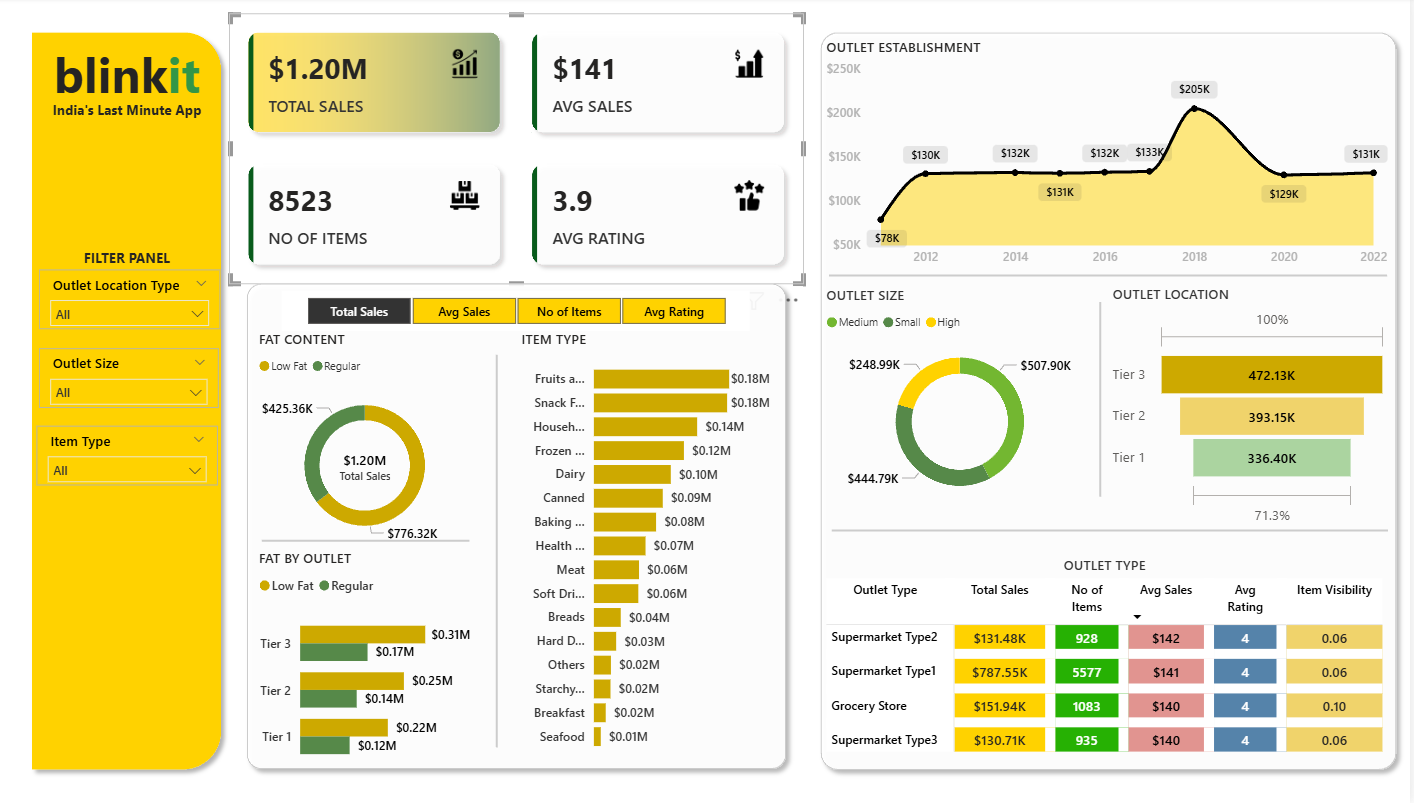

The page's visual inventory and layout, read from the dashboard file:
{"tool":"powerbi","page":{"name":"Page 1","canvas":[1400,800],"ordinal":0},"visuals":[{"type":"shape","box":[23.9,25.7,205.8,749.6],"z":0},{"type":"textbox","box":[36.7,38.3,180,75],"z":1000},{"type":"textbox","box":[36.7,98.3,180,30],"z":2000},{"type":"cardVisual","fields":{"Data":["BlinkIT Grocery Data.Total Sales","BlinkIT Grocery Data.Avg Sales","BlinkIT Grocery Data.No of Items","BlinkIT Grocery Data.Avg Rating"]},"box":[228.1,16.1,570.3,269.9],"z":3000},{"type":"shape","box":[236.7,275,553.3,500],"z":4000},{"type":"donutChart","title":"FAT CONTENT","fields":{"Y":["BlinkIT Grocery Data.Total Sales"],"Category":["BlinkIT Grocery Data.Item Fat Content"]},"box":[253.3,330,220,225],"z":5000},{"type":"slicer","fields":{"Values":["Metrics.Metrics"]},"box":[280,291.7,465,40],"z":6000},{"type":"cardVisual","fields":{"Data":["BlinkIT Grocery Data.Total Sales"]},"box":[300,425,126.7,80],"z":7000},{"type":"clusteredBarChart","title":"FAT BY OUTLET","fields":{"Y":["BlinkIT Grocery Data.Total Sales"],"Category":["BlinkIT Grocery Data.Outlet Location Type"],"Series":["BlinkIT Grocery Data.Item Fat Content"]},"box":[253.3,546.7,220,230],"z":8000},{"type":"shape","box":[260,530,206.7,20],"z":9000},{"type":"shape","box":[473.3,355,40,390],"z":10000},{"type":"barChart","title":"ITEM TYPE","fields":{"Y":["BlinkIT Grocery Data.Total Sales"],"Category":["BlinkIT Grocery Data.Item Type"]},"box":[513.3,330,256.7,428.3],"z":11000},{"type":"shape","box":[806.4,25.7,589.6,750.2],"z":12000},{"type":"lineChart","title":"OUTLET ESTABLISHMENT","fields":{"Y":["BlinkIT Grocery Data.Total Sales"],"Category":["BlinkIT Grocery Data.Outlet Establishment Year"]},"box":[816.1,40.2,567.1,236.1],"z":13000},{"type":"shape","box":[824.1,271.5,554.2,9.6],"z":14000},{"type":"donutChart","title":"OUTLET SIZE","fields":{"Y":["BlinkIT Grocery Data.Total Sales"],"Category":["BlinkIT Grocery Data.Outlet Size"]},"box":[816.7,286.7,275,225],"z":15000},{"type":"shape","box":[1073.3,303.3,40,193.3],"z":16000},{"type":"funnel","title":"OUTLET LOCATION","fields":{"Y":["Sum(BlinkIT Grocery Data.Sales)"],"Category":["BlinkIT Grocery Data.Outlet Location Type"]},"box":[1100.4,285.9,282.7,244.2],"z":17000},{"type":"shape","box":[825.7,525.3,552.6,9.6],"z":18000},{"type":"pivotTable","title":"OUTLET TYPE","fields":{"Rows":["BlinkIT Grocery Data.Outlet Type"],"Values":["BlinkIT Grocery Data.Total Sales","BlinkIT Grocery Data.No of Items","BlinkIT Grocery Data.Avg Sales","BlinkIT Grocery Data.Avg Rating","Avg(BlinkIT Grocery Data.Item Visibility)"]},"box":[816.1,554.2,562.2,204],"z":19000},{"type":"slicer","fields":{"Values":["BlinkIT Grocery Data.Outlet Location Type"]},"box":[40.2,269.9,179.9,59.4],"z":20000},{"type":"slicer","fields":{"Values":["BlinkIT Grocery Data.Outlet Size"]},"box":[40.2,348.6,178.3,59.4],"z":21000},{"type":"slicer","fields":{"Values":["BlinkIT Grocery Data.Item Type"]},"box":[36.9,425.7,179.9,59.4],"z":22000},{"type":"textbox","box":[62.7,244.2,130.1,27.3],"z":22001}]}

Visuals, with their boxes in screenshot pixels (x1, y1, x2, y2), scaled from the page's 1400x800 canvas onto the 1414x803 screenshot:
shape: 24, 26, 232, 778
textbox: 37, 38, 219, 114
textbox: 37, 99, 219, 129
cardVisual - BlinkIT Grocery Data.Total Sales x BlinkIT Grocery Data.Avg Sales: 230, 16, 806, 287
shape: 239, 276, 798, 778
"FAT CONTENT" donutChart: 256, 331, 478, 557
slicer - Metrics.Metrics: 283, 293, 752, 333
cardVisual - BlinkIT Grocery Data.Total Sales: 303, 427, 431, 507
"FAT BY OUTLET" clusteredBarChart: 256, 549, 478, 780
shape: 263, 532, 471, 552
shape: 478, 356, 518, 748
"ITEM TYPE" barChart: 518, 331, 778, 761
shape: 814, 26, 1410, 779
"OUTLET ESTABLISHMENT" lineChart: 824, 40, 1397, 277
shape: 832, 273, 1392, 282
"OUTLET SIZE" donutChart: 825, 288, 1103, 514
shape: 1084, 304, 1124, 498
"OUTLET LOCATION" funnel: 1111, 287, 1397, 532
shape: 834, 527, 1392, 537
"OUTLET TYPE" pivotTable: 824, 556, 1392, 761
slicer - BlinkIT Grocery Data.Outlet Location Type: 41, 271, 222, 331
slicer - BlinkIT Grocery Data.Outlet Size: 41, 350, 221, 410
slicer - BlinkIT Grocery Data.Item Type: 37, 427, 219, 487
textbox: 63, 245, 195, 273
